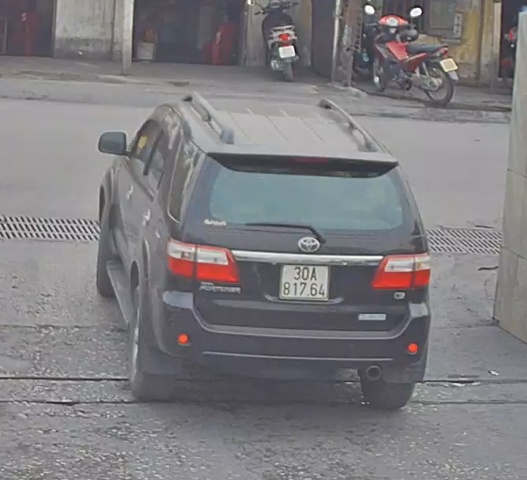vehicle plate: (273, 259, 330, 304)
